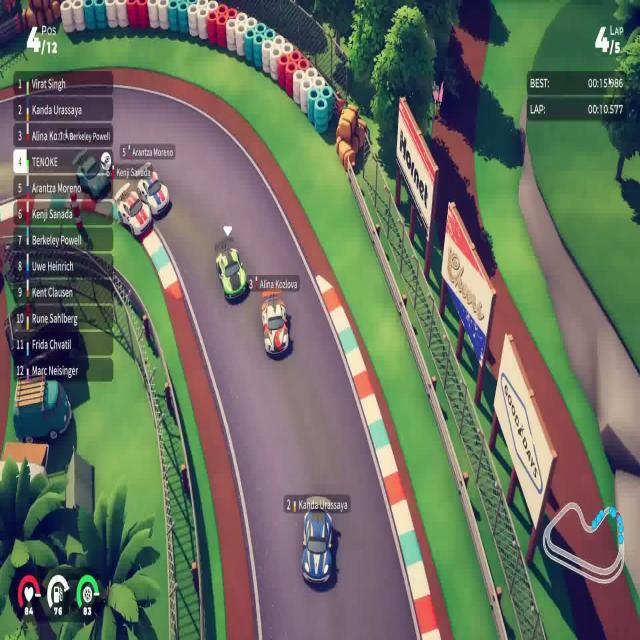car: (300, 506, 334, 586), (116, 190, 154, 240), (260, 294, 290, 357), (215, 244, 247, 302), (136, 168, 170, 218)
